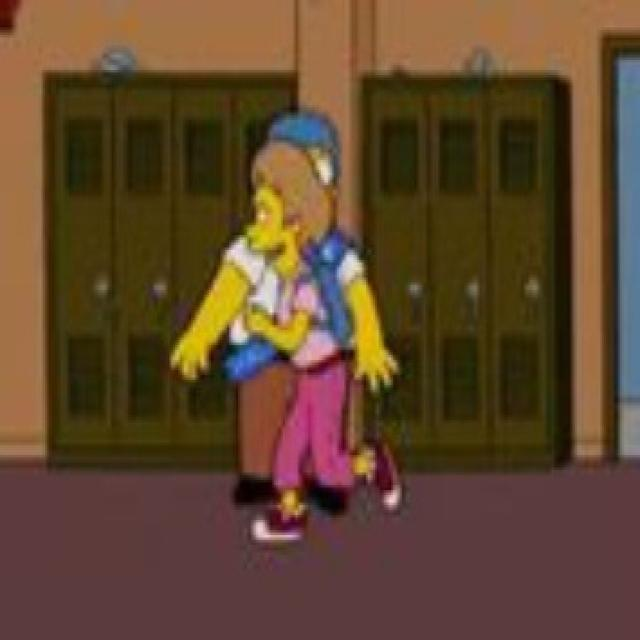Edna Krappel: (241, 142, 329, 282)
